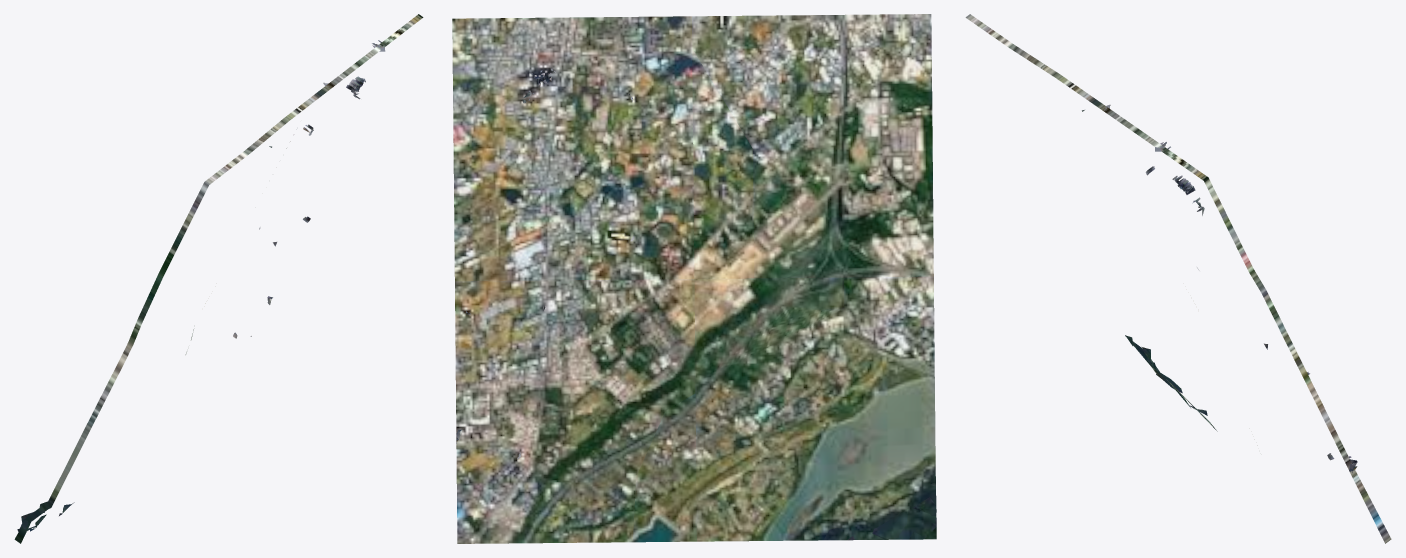
The picture shows the model from 3 angles, left to right: view 1: azimuth 30°, elevation 25°; view 2: azimuth 150°, elevation 25°; view 3: azimuth 270°, elevation 25°; orthographic projection. The views are drawn at different scales.
Bounding box in the file's own units: 4931 × 4505 × 4160.
1 material, 1 textured.
